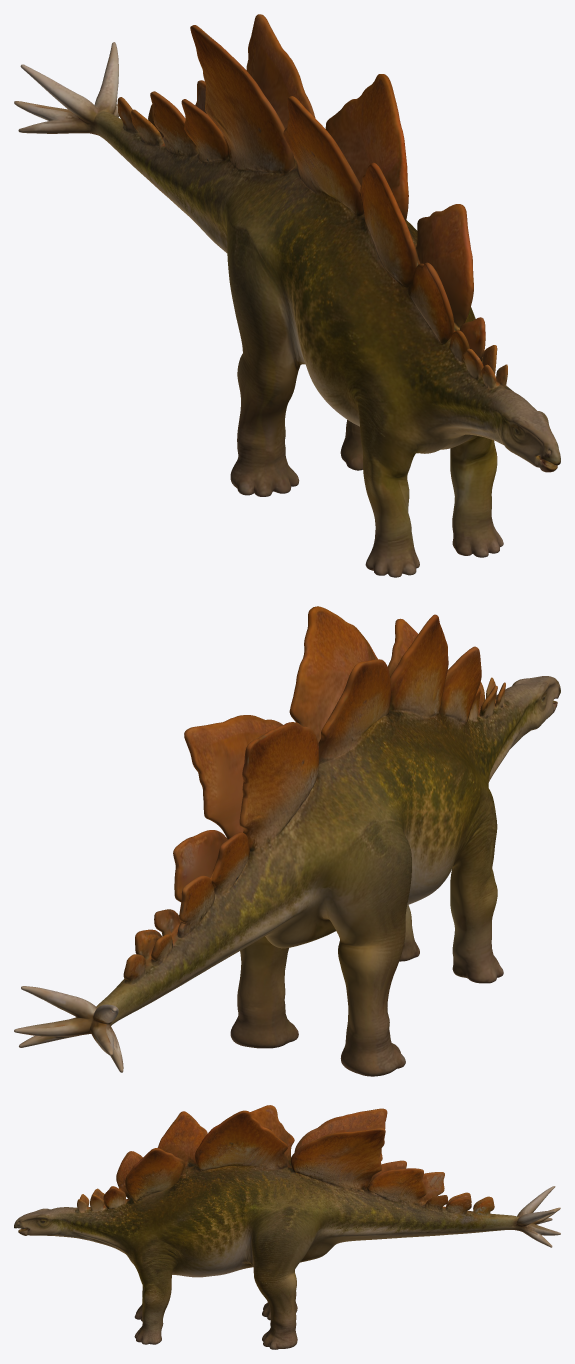
The model's file is stegosaurus.glb.
3 renders of one model, top to bottom at view 1: azimuth 30°, elevation 25°; view 2: azimuth 150°, elevation 25°; view 3: azimuth 270°, elevation 25°, orthographic. The views are drawn at different scales.
Visible parts, largest first — view 1: material; view 2: material; view 3: material.
Part boxes in pixels (box(x1,y1,x2,y2)): material: box(14, 14, 560, 577); material: box(14, 606, 560, 1076); material: box(14, 1105, 560, 1349).
Bounding box in the file's own units: 1.35 × 3.2 × 7.
Materials: 1 (1 with a texture image).
